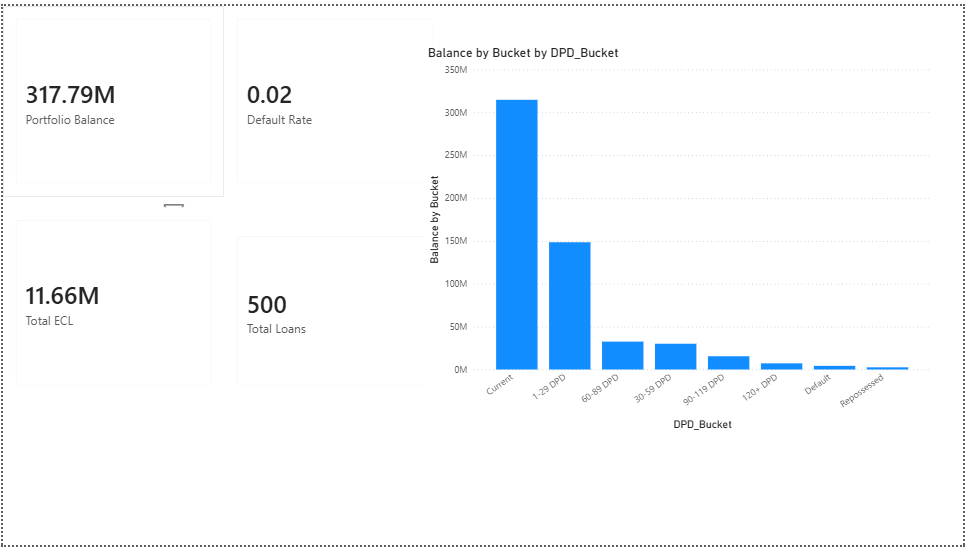

This screenshot's page, from the dashboard's own definition file:
{"tool":"powerbi","page":{"name":"Executive Dashboard","canvas":[1280,720],"ordinal":0},"visuals":[{"type":"cardVisual","fields":{"Data":["auto_loan_securitisation_data.Portfolio Balance"]},"box":[0,0,295,255],"z":0},{"type":"cardVisual","fields":{"Data":["auto_loan_securitisation_data.Default Rate"]},"box":[295.7,0,295.7,255.7],"z":1000},{"type":"cardVisual","fields":{"Data":["auto_loan_securitisation_data.Total ECL"]},"box":[0,268.5,295,255],"z":2000},{"type":"cardVisual","fields":{"Data":["auto_loan_securitisation_data.Total Loans"]},"box":[295,290,330,233.3],"z":3000},{"type":"clusteredColumnChart","fields":{"Category":["dpd_snapshot_history.DPD_Bucket"],"Y":["auto_loan_securitisation_data.Balance by Bucket"]},"box":[562,52,680,520],"z":4000}]}

Visuals, with their boxes in screenshot pixels (x1, y1, x2, y2), scaled from the page's 1280x720 canvas onto the 970x547 screenshot:
cardVisual - auto_loan_securitisation_data.Portfolio Balance: x1=0, y1=0, x2=224, y2=194
cardVisual - auto_loan_securitisation_data.Default Rate: x1=224, y1=0, x2=448, y2=194
cardVisual - auto_loan_securitisation_data.Total ECL: x1=0, y1=204, x2=224, y2=398
cardVisual - auto_loan_securitisation_data.Total Loans: x1=224, y1=220, x2=474, y2=398
clusteredColumnChart - dpd_snapshot_history.DPD_Bucket x auto_loan_securitisation_data.Balance by Bucket: x1=426, y1=40, x2=941, y2=435
